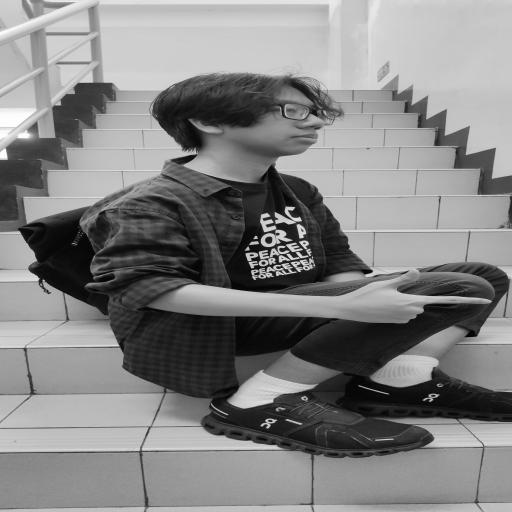next: (327, 265, 502, 329)
